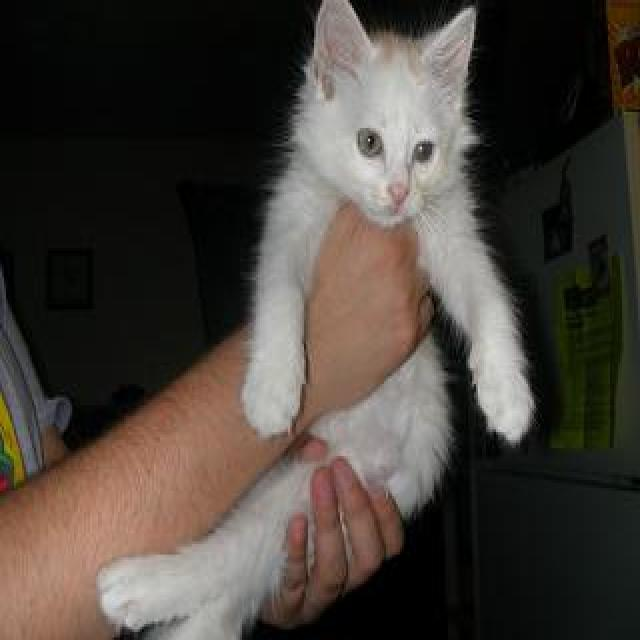Cats: (92, 0, 536, 637)
